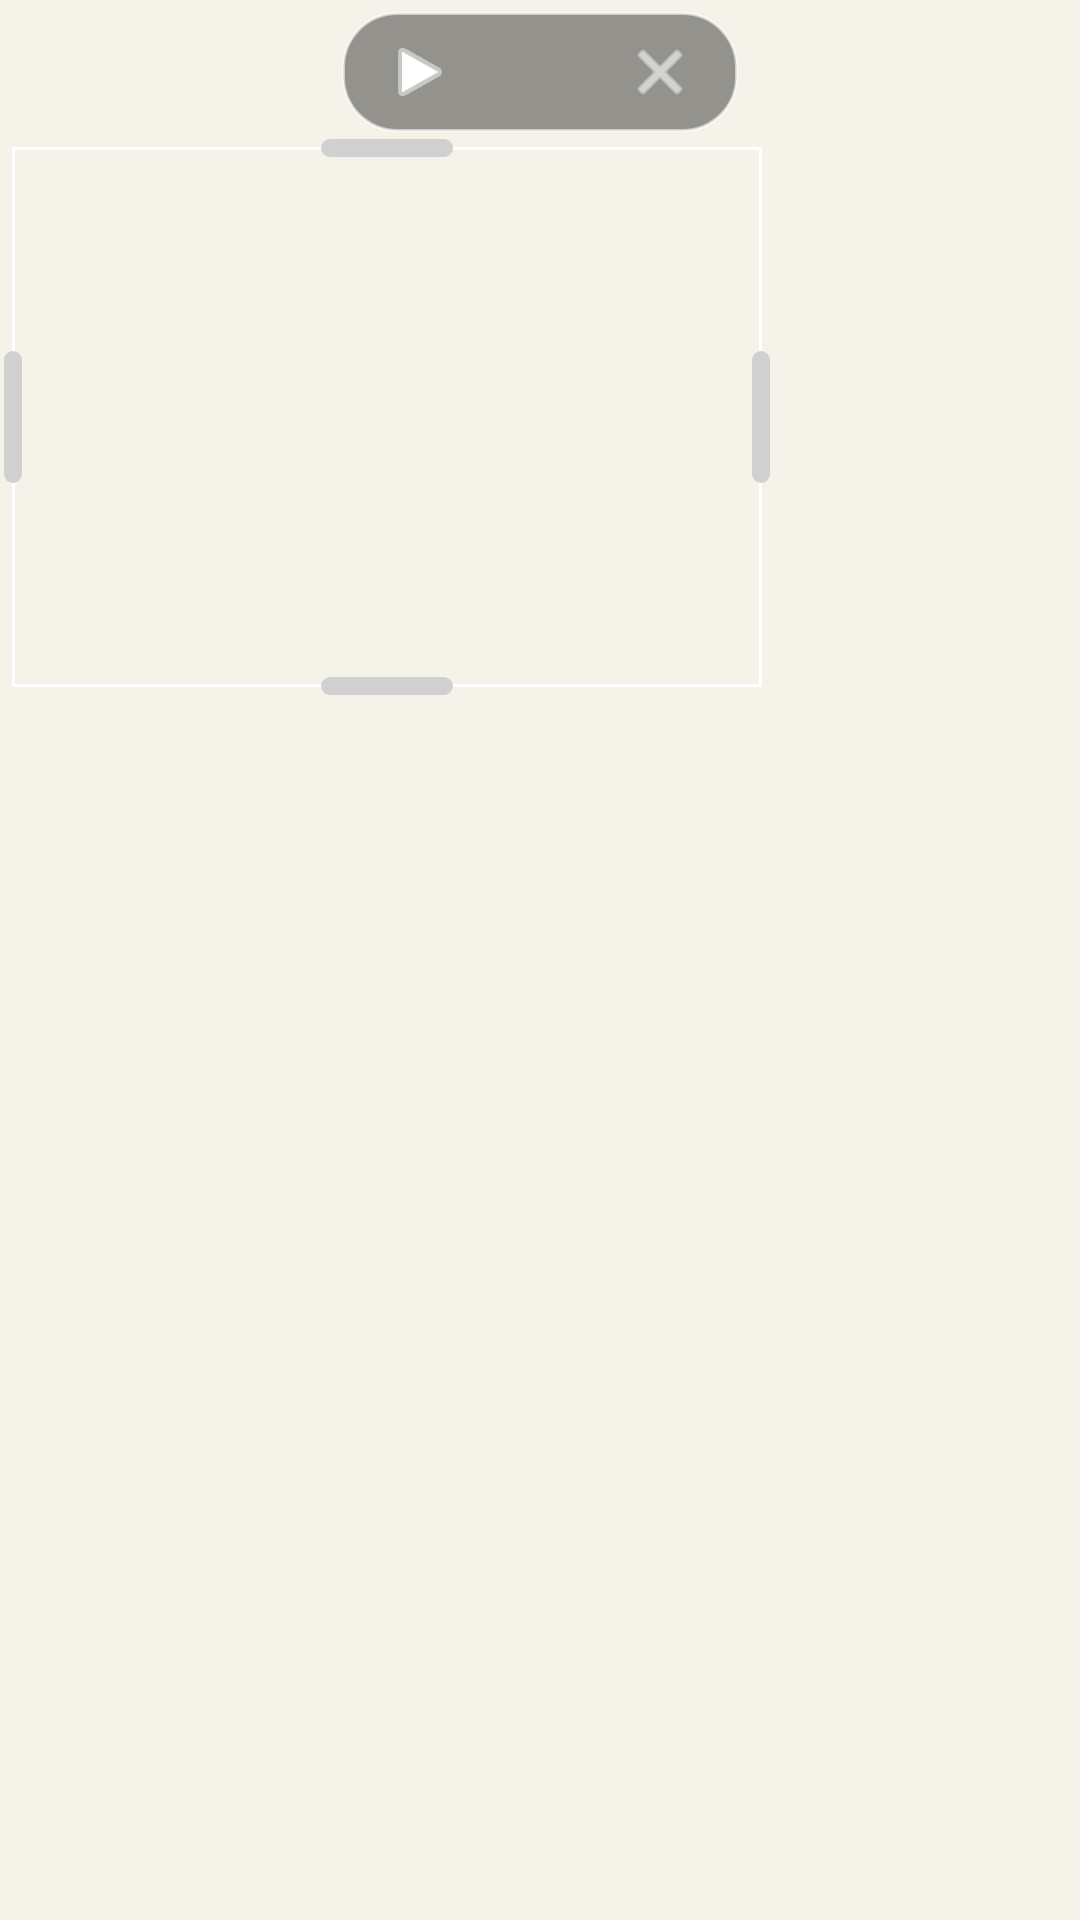

Where to tap for icons on this 1080 × 1920 app screen, as point (x, y):
close clear cancel: point (660, 72)
play: point (420, 72)
